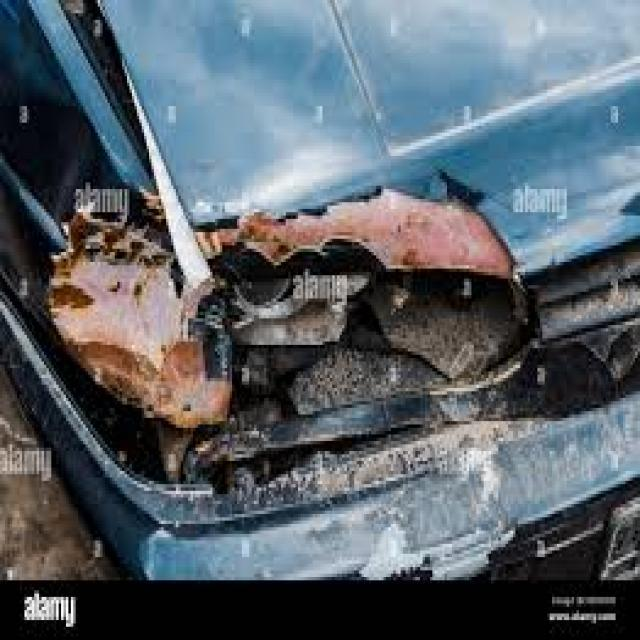damaged-head-light: (145, 246, 530, 416)
